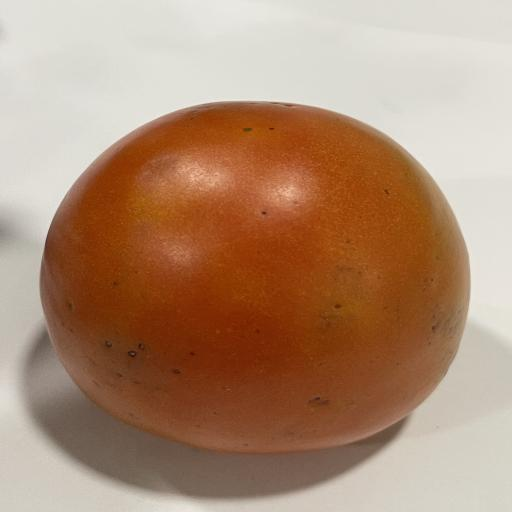ripe: (40, 102, 470, 453)
